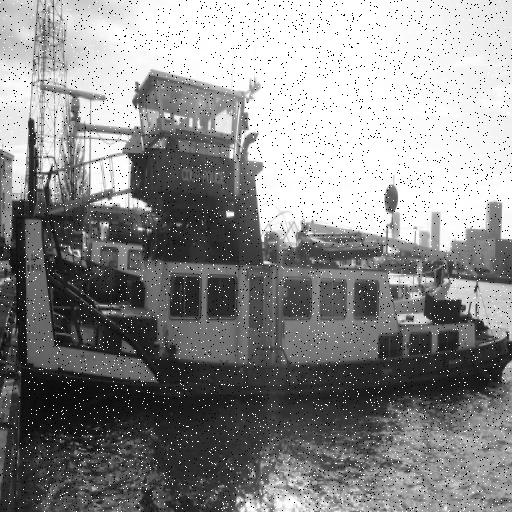tugboat: (10, 64, 512, 424)
